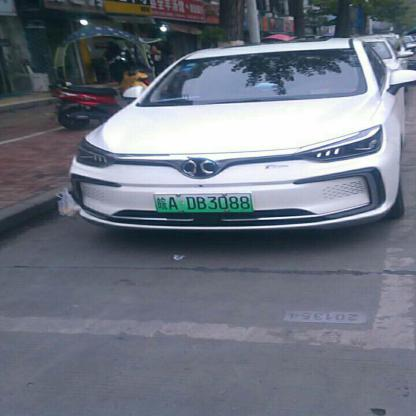lp: (153, 194, 253, 213)
